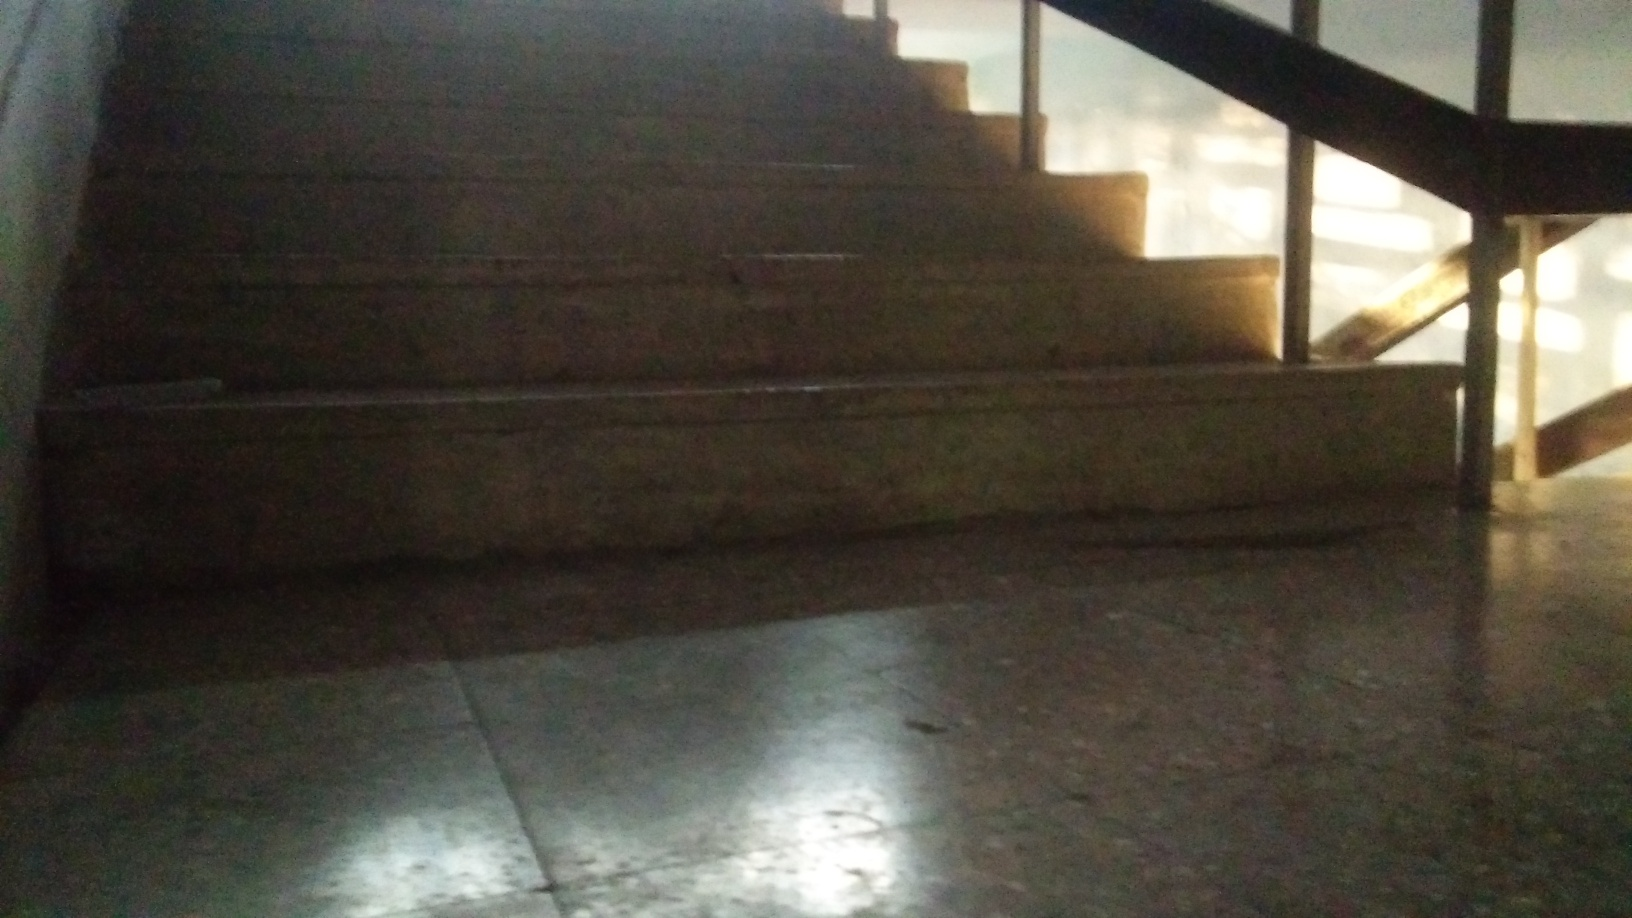stairs_up: (63, 8, 1367, 550)
